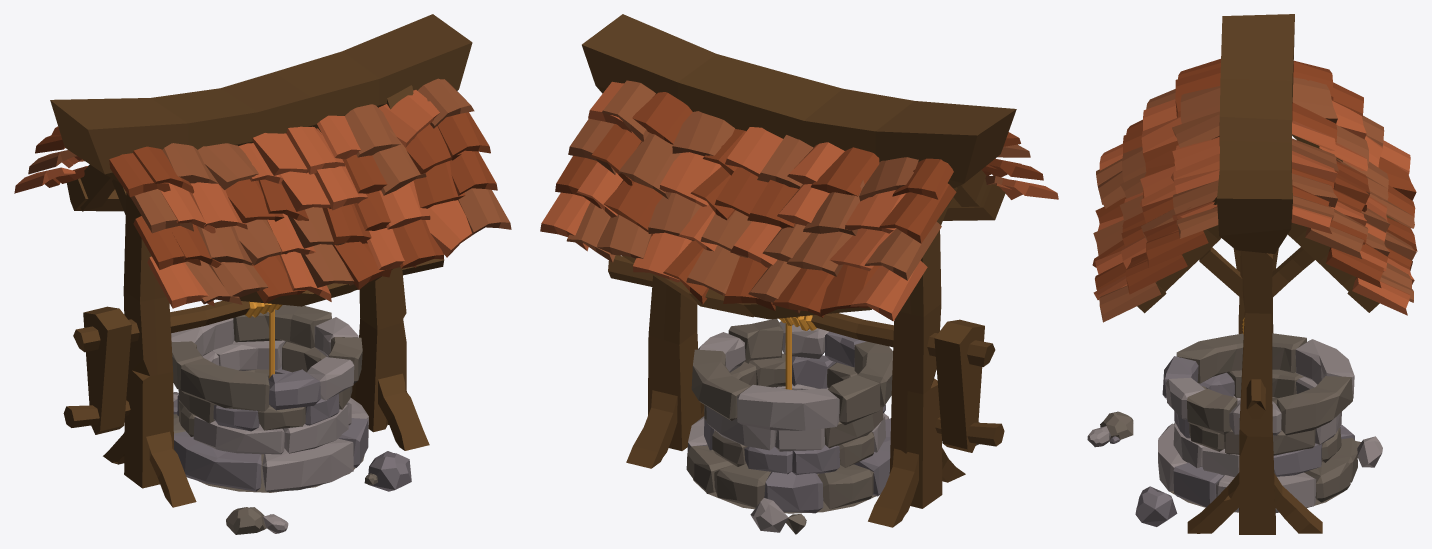
The model's file is puit.fbx.
3 views of the same model, side by side, from view 1: azimuth 30°, elevation 25°; view 2: azimuth 150°, elevation 25°; view 3: azimuth 270°, elevation 25° (orthographic). The views are drawn at different scales.
Parts seen in each view (by area): view 1: Well Head, 4rd Floor Well, Pole 2, 1st Base Well, Cylinder, 3rd Floor Well, Pole 1, 2nd Floor Well, Half Pole 1.002, Tiles 1.030, Tiles 1.031, Tiles 1.025 (+47 smaller); view 2: Well Head, 4rd Floor Well, Pole 2, Cylinder, 1st Base Well, 3rd Floor Well, Pole 1, Half Pole 1.003, 2nd Floor Well, Tiles 1.065, Tiles 1.087, Tiles 1.057 (+47 smaller); view 3: Well Head, 4rd Floor Well, Pole 1, 1st Base Well, 3rd Floor Well, 2nd Floor Well, Half Pole 1.002, Half Pole 1.003, Tiles 1.021, Tiles 1.075, Tiles 1.043, Icosphere.003 (+52 smaller).
Part boxes in pixels (box(x1,y1,x2,y2)): Well Head: box(50, 14, 472, 182); 4rd Floor Well: box(171, 305, 362, 411); Pole 2: box(123, 192, 173, 488); 1st Base Well: box(173, 397, 368, 492); Cylinder: box(63, 254, 444, 434); 3rd Floor Well: box(178, 340, 352, 431); Pole 1: box(355, 267, 406, 432); 2nd Floor Well: box(177, 366, 351, 454); Half Pole 1.002: box(146, 373, 429, 507); Tiles 1.030: box(345, 104, 400, 157); Tiles 1.031: box(378, 90, 439, 147); Tiles 1.025: box(198, 143, 258, 189); Well Head: box(582, 14, 1016, 188); 4rd Floor Well: box(691, 319, 892, 430); Pole 2: box(889, 217, 942, 508); Cylinder: box(608, 255, 1004, 452); 1st Base Well: box(686, 414, 890, 513); 3rd Floor Well: box(704, 353, 885, 451); Pole 1: box(648, 275, 701, 450); Half Pole 1.003: box(626, 390, 918, 527); 2nd Floor Well: box(704, 384, 885, 475); Tiles 1.065: box(879, 183, 956, 243); Tiles 1.087: box(850, 260, 927, 321); Tiles 1.057: box(618, 132, 681, 199); Well Head: box(1217, 14, 1294, 253); 4rd Floor Well: box(1162, 333, 1354, 435); Pole 1: box(1239, 250, 1275, 534); 1st Base Well: box(1158, 423, 1357, 512); 3rd Floor Well: box(1174, 369, 1341, 455); 2nd Floor Well: box(1173, 396, 1341, 477); Half Pole 1.002: box(1187, 472, 1239, 533); Half Pole 1.003: box(1274, 473, 1322, 533); Tiles 1.021: box(1146, 230, 1208, 267); Tiles 1.075: box(1292, 77, 1337, 123); Tiles 1.043: box(1099, 281, 1161, 322); Icosphere.003: box(1135, 486, 1177, 526).
Size of the model in its own units: 397 by 400 by 309.
